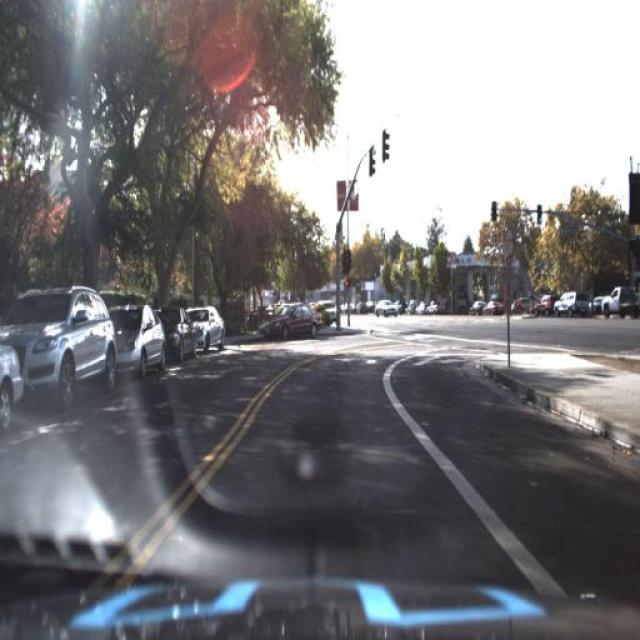car: (19, 278, 117, 418), (109, 296, 165, 384), (254, 294, 330, 350), (1, 335, 23, 433), (191, 302, 229, 357), (163, 304, 193, 370), (552, 284, 592, 320), (529, 294, 560, 321), (314, 296, 340, 324), (370, 298, 400, 322), (586, 294, 610, 314)
